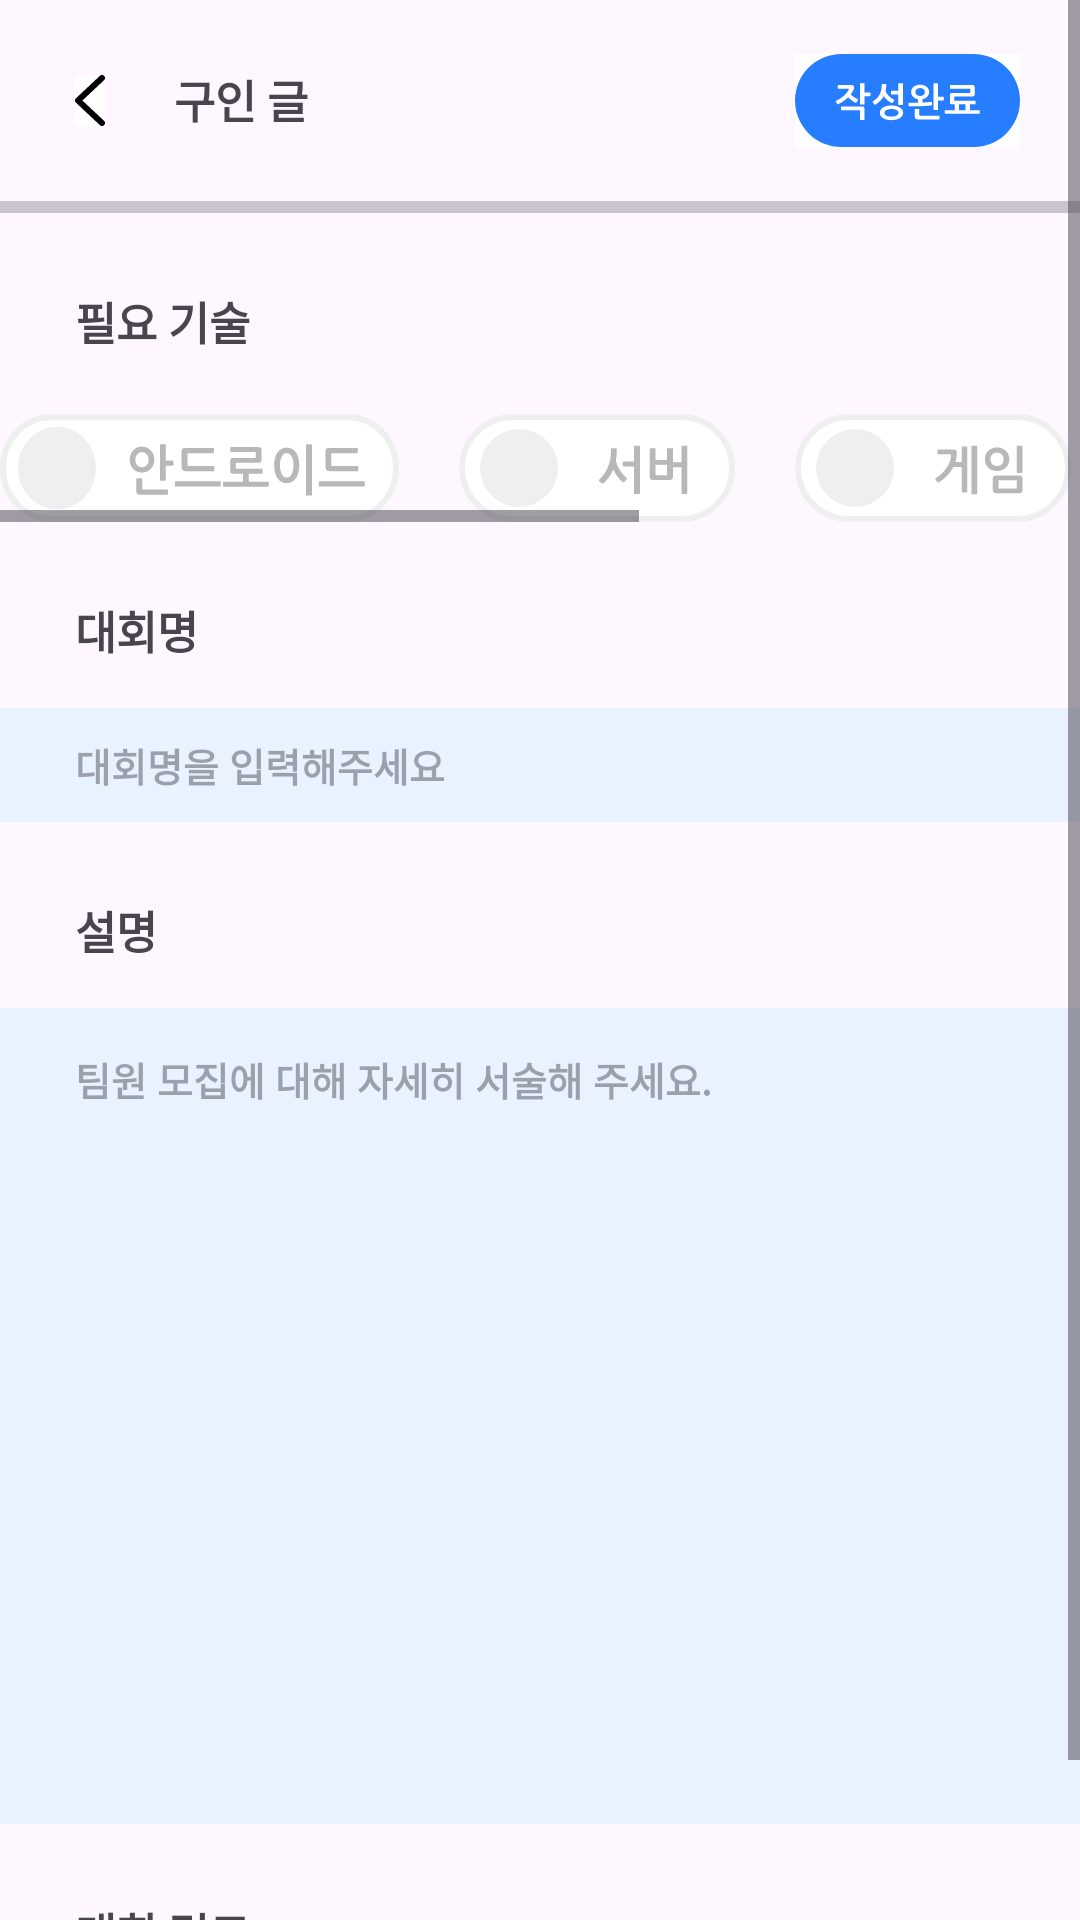

Icons on this 1080*1920 Android screen, each with its box as {"x1": x1, "y1": y1, "x2": x2, "y2": y2}:
back: {"x1": 75, "y1": 75, "x2": 105, "y2": 126}
